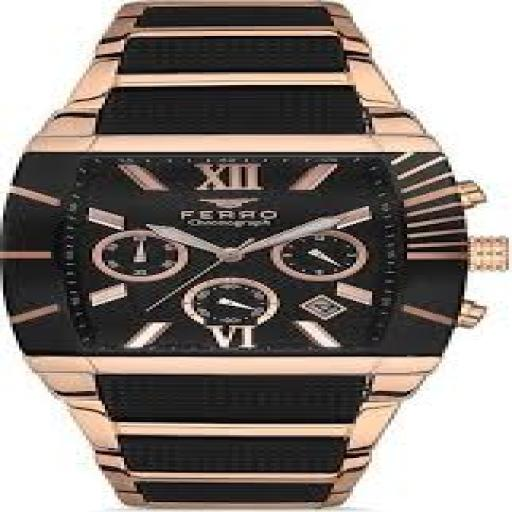KolSaati: (8, 4, 496, 508)
